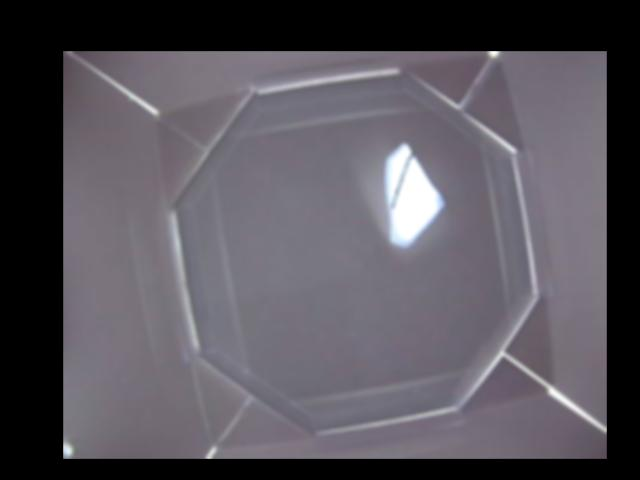China: (381, 142, 446, 246)
